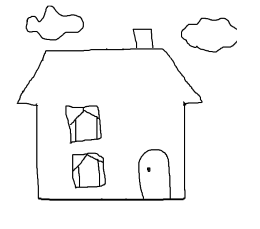chimney: (131, 19, 158, 52)
clouds: (177, 10, 246, 59), (19, 2, 96, 45)
door: (131, 143, 179, 203)
open_window: (60, 103, 107, 146), (68, 149, 111, 191)
single_line_roof: (13, 42, 206, 116)
wall: (27, 97, 191, 205)
